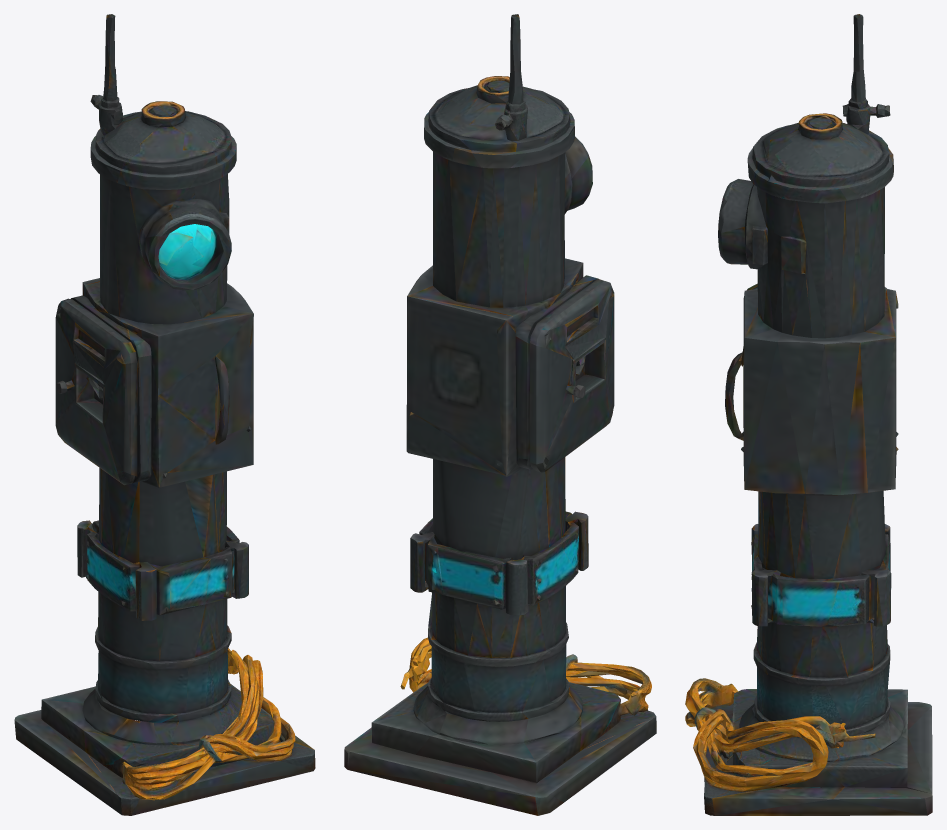
File: balise.glb
The picture shows the model from 3 angles, left to right: view 1: azimuth 30°, elevation 25°; view 2: azimuth 150°, elevation 25°; view 3: azimuth 270°, elevation 25°; orthographic projection. The views are drawn at different scales.
Bounding box in the file's own units: 0.5342 × 1.9 × 0.5793.
1 material, 1 textured.
